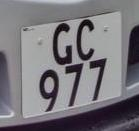7: (63, 60, 90, 110), (86, 56, 111, 104)
9: (35, 64, 67, 114)
C: (72, 13, 104, 65)
G: (48, 15, 76, 71)
